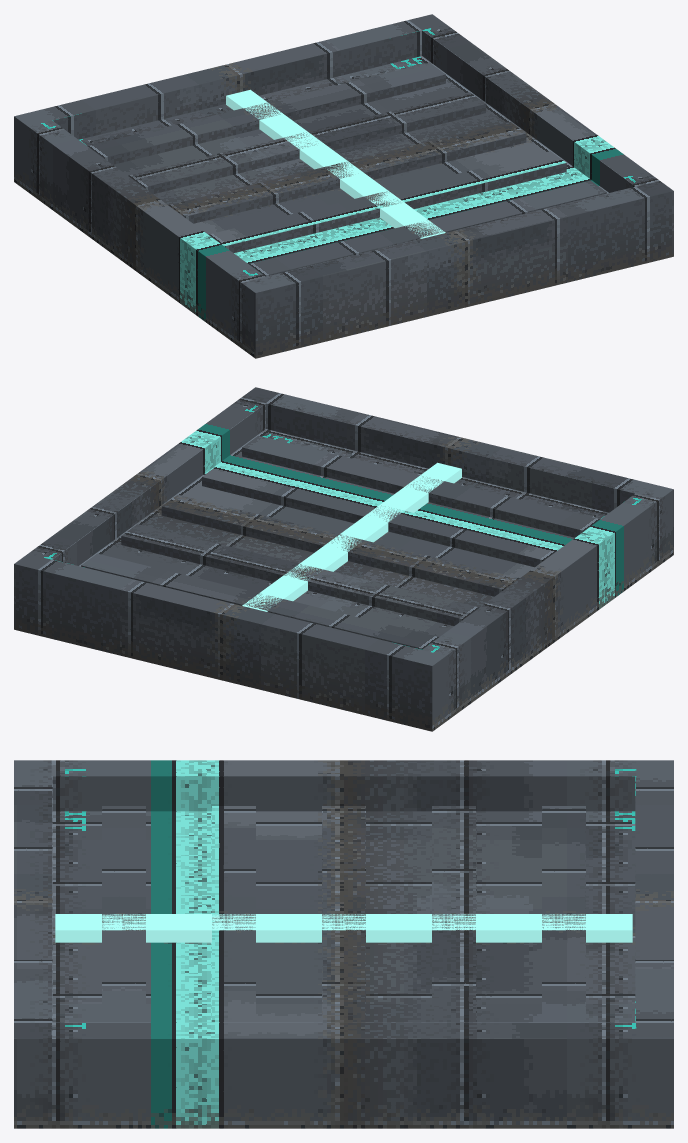
Rendered from movplat_deck.glb.
The picture shows the model from 3 angles, top to bottom: view 1: azimuth 30°, elevation 25°; view 2: azimuth 150°, elevation 25°; view 3: azimuth 270°, elevation 25°; orthographic projection. The views are drawn at different scales.
Visible parts, largest first — view 1: movplat_deck; view 2: movplat_deck; view 3: movplat_deck.
Part boxes in pixels (bbox=[...]): movplat_deck: bbox=[14, 14, 673, 358]; movplat_deck: bbox=[14, 387, 673, 731]; movplat_deck: bbox=[14, 760, 673, 1128].
Size of the model in its own units: 2.4 by 0.72 by 2.4.
2 materials, 1 textured.
